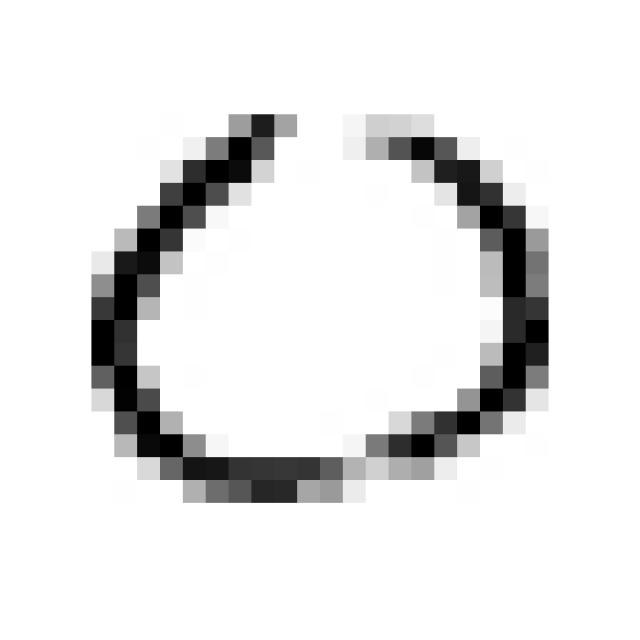5 -five-: (69, 84, 571, 518)
